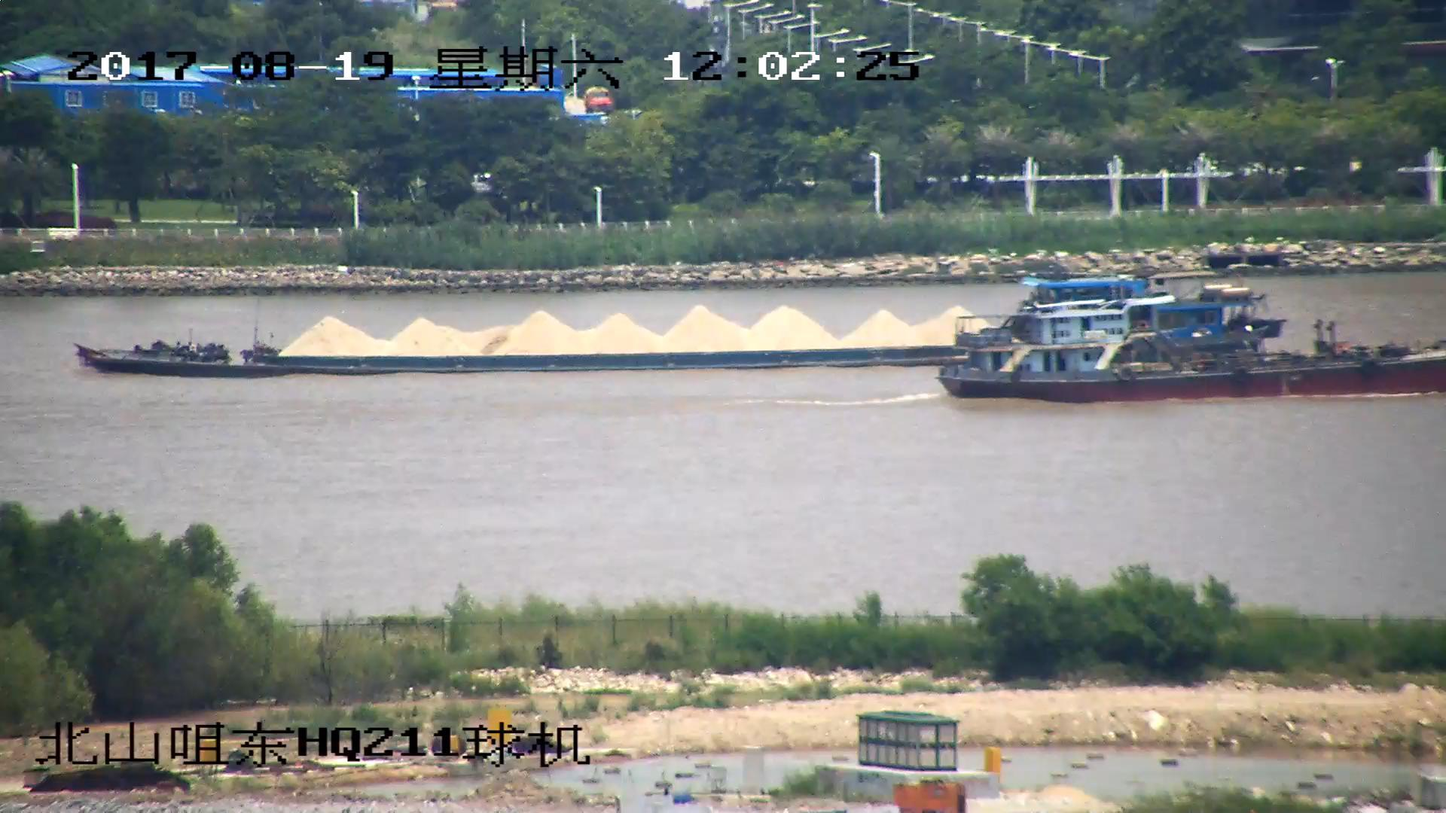bulk cargo carrier: (938, 294, 1445, 400)
ore carrier: (66, 268, 1285, 382)
